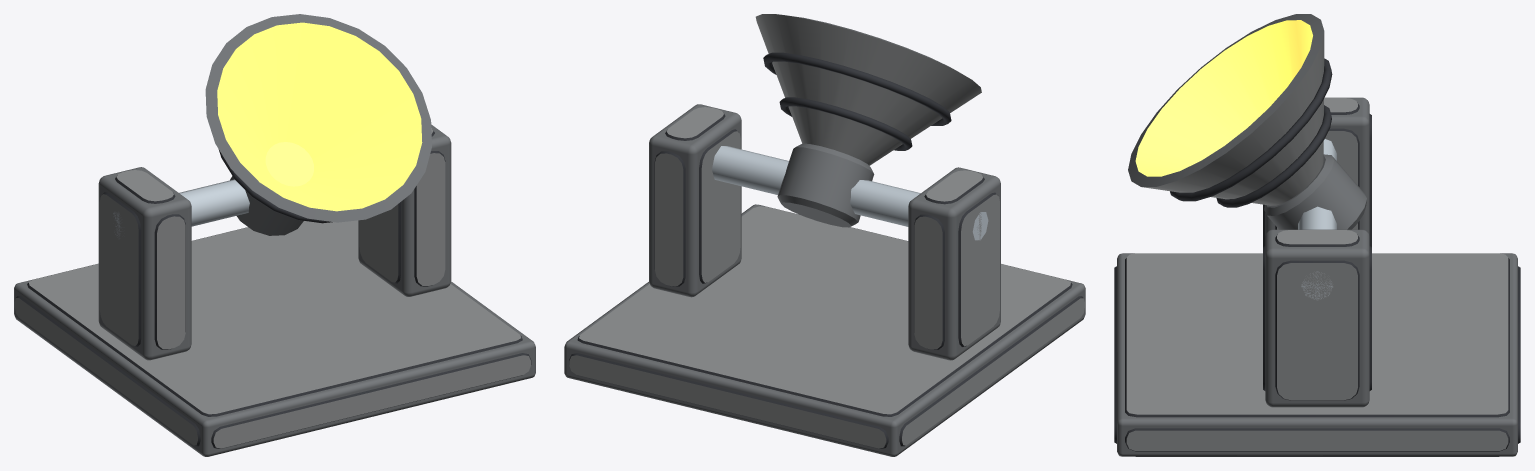
File: R4X_DeployableAmplifier.glb
3 renders of one model, left to right at view 1: azimuth 30°, elevation 25°; view 2: azimuth 150°, elevation 25°; view 3: azimuth 270°, elevation 25°, orthographic. The views are drawn at different scales.
Parts seen in each view (by area): view 1: R4X_DeployableAmplifier_Body, R4X_DeployableAmplifier_Horn; view 2: R4X_DeployableAmplifier_Body, R4X_DeployableAmplifier_Horn; view 3: R4X_DeployableAmplifier_Body, R4X_DeployableAmplifier_Horn.
Part boxes in pixels (x1=…): R4X_DeployableAmplifier_Body: x1=14, y1=124, x2=535, y2=456; R4X_DeployableAmplifier_Horn: x1=205, y1=14, x2=431, y2=235; R4X_DeployableAmplifier_Body: x1=564, y1=104, x2=1085, y2=456; R4X_DeployableAmplifier_Horn: x1=755, y1=14, x2=981, y2=227; R4X_DeployableAmplifier_Body: x1=1114, y1=97, x2=1520, y2=456; R4X_DeployableAmplifier_Horn: x1=1128, y1=14, x2=1366, y2=229.
Bounding box in the file's own units: 0.52 × 0.488 × 0.52.
